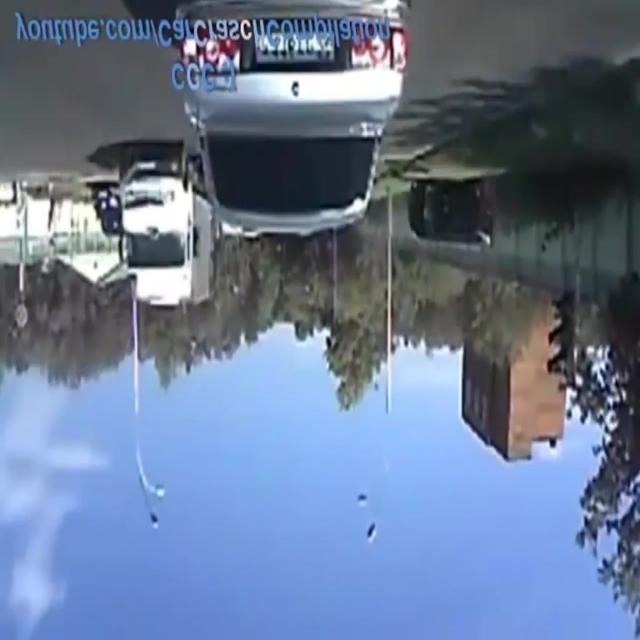severe: (402, 175, 502, 265)
